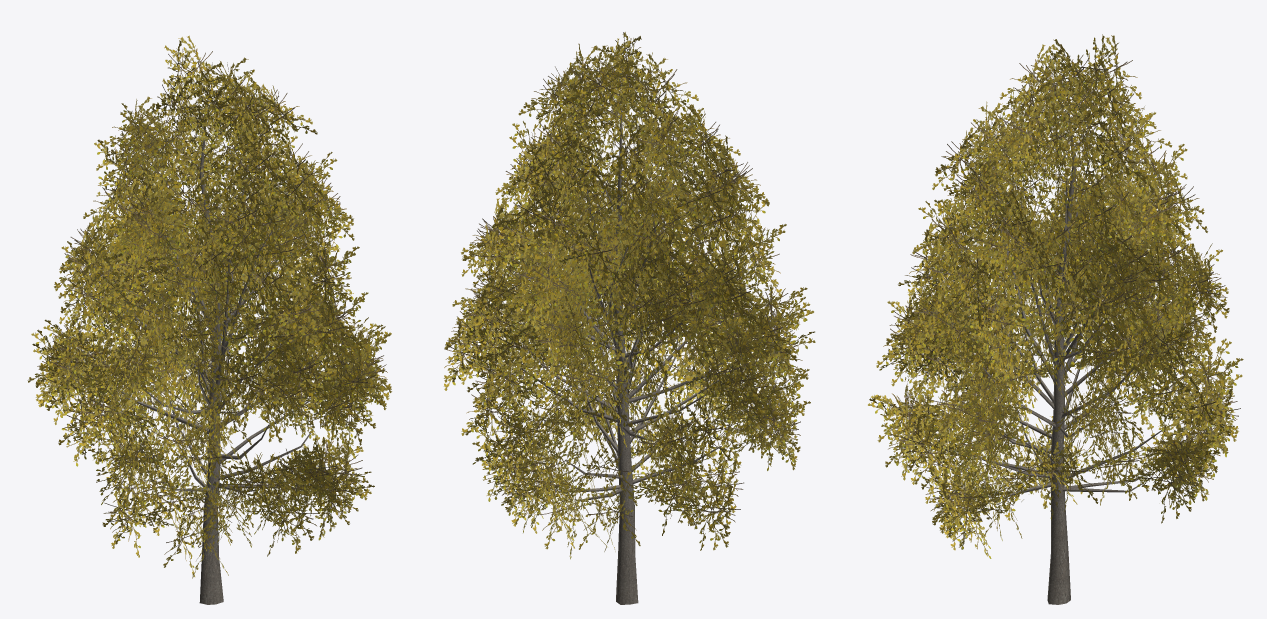
The model's file is Carpinus_Betulus_Autumn_Young.glb.
3 views of the same model, side by side, from view 1: azimuth 30°, elevation 25°; view 2: azimuth 150°, elevation 25°; view 3: azimuth 270°, elevation 25° (orthographic). The views are drawn at different scales.
Parts seen in each view (by area): view 1: Carpinus_Betulus_Autumn_Young__LOD3; view 2: Carpinus_Betulus_Autumn_Young__LOD3; view 3: Carpinus_Betulus_Autumn_Young__LOD3.
Part boxes in pixels (x1=…): Carpinus_Betulus_Autumn_Young__LOD3: x1=27, y1=35, x2=391, y2=604; Carpinus_Betulus_Autumn_Young__LOD3: x1=444, y1=32, x2=815, y2=604; Carpinus_Betulus_Autumn_Young__LOD3: x1=868, y1=34, x2=1243, y2=604.
Bounding box in the file's own units: 6.34 × 10.53 × 6.5.
Materials: 2 (2 with a texture image).
